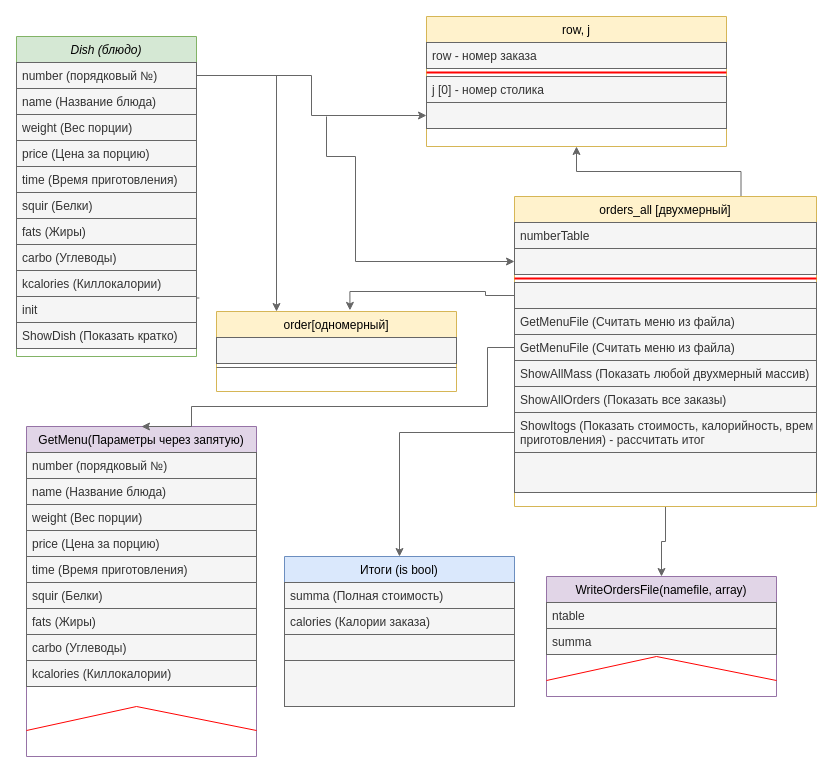
Image size: 837x773. Some labels were removed from this diagram. The centre of each missing label's shape, as x and y in pixels:
"indx = order[row, j [ ]] - номер блюда" belongs at (x=576, y=115).
"number.Dish" belongs at (x=665, y=261).
"OrderFood (Добавление блюда)" belongs at (x=665, y=295).
"time (Максимальное ожидание)" belongs at (x=399, y=647).
"WriteOrderFile (Платежей)" belongs at (x=399, y=683).
"WriteOrdersFile (Записать итоги заказов в файл)" belongs at (x=665, y=472).
"Список блюд одного заказа" belongs at (x=336, y=350).
